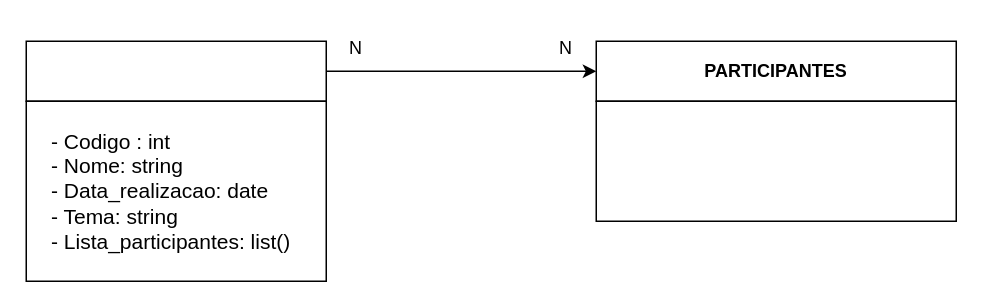
This 983x308 diagram has some shape labels left out. The centre of each missing label's shape, as x and y in pixels:
"- Id: int - Nome_completo: string - Email: string - Preferencia_tematica: string" belongs at (x=775, y=160).
"EVENTO" belongs at (x=175, y=70).
